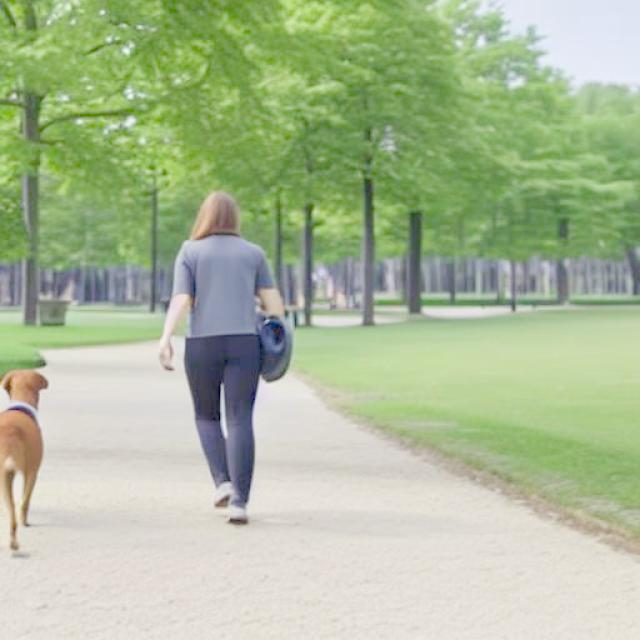Unleashed_Dog: (0, 324, 259, 550)
